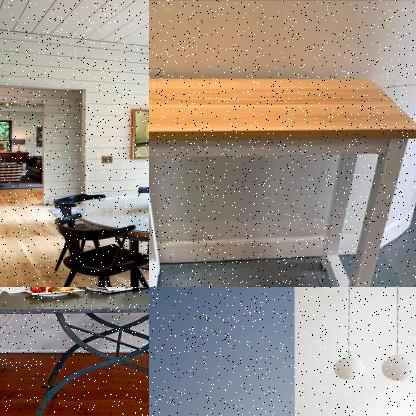table: (149, 70, 415, 286), (0, 287, 148, 415), (73, 177, 148, 286)
